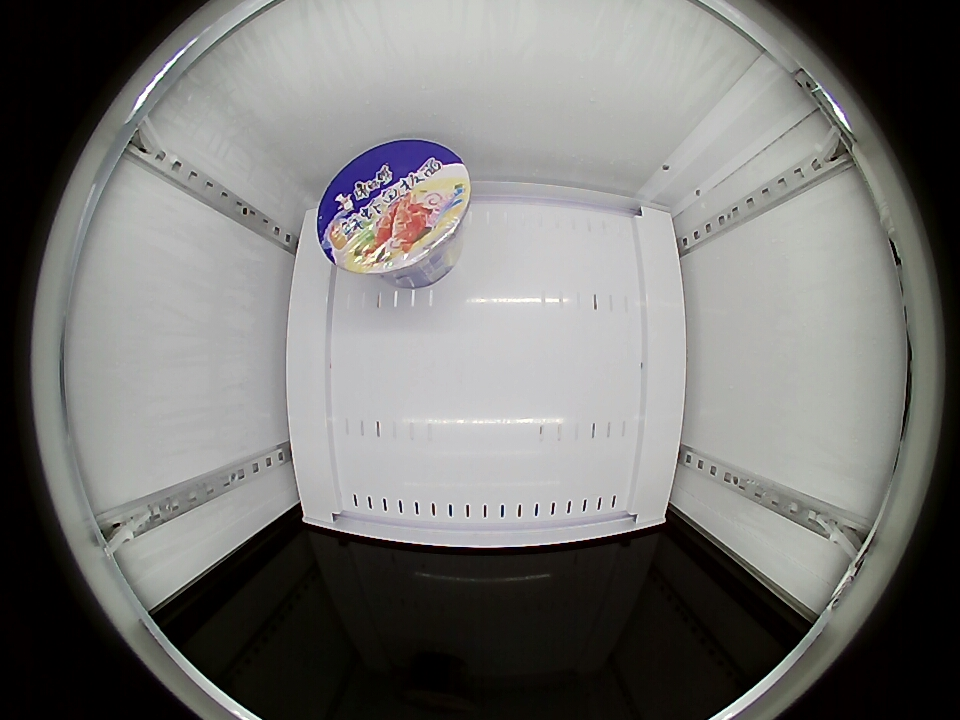xianxiayuban: (315, 140, 471, 279)
